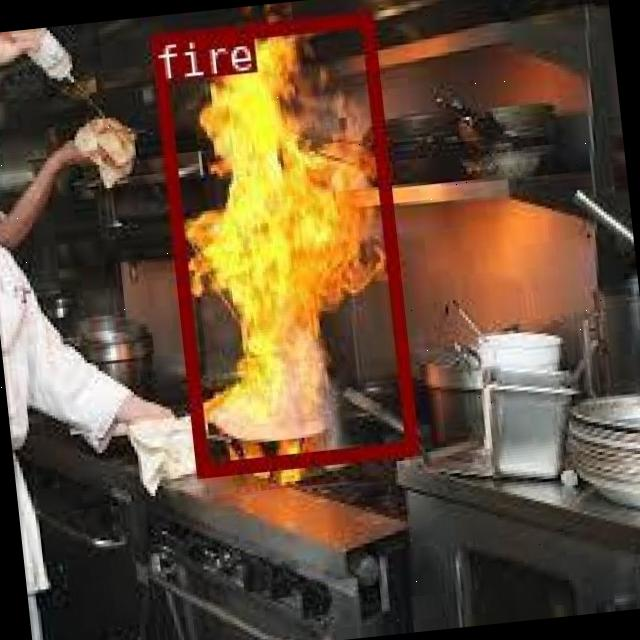fire: (149, 9, 415, 475)
